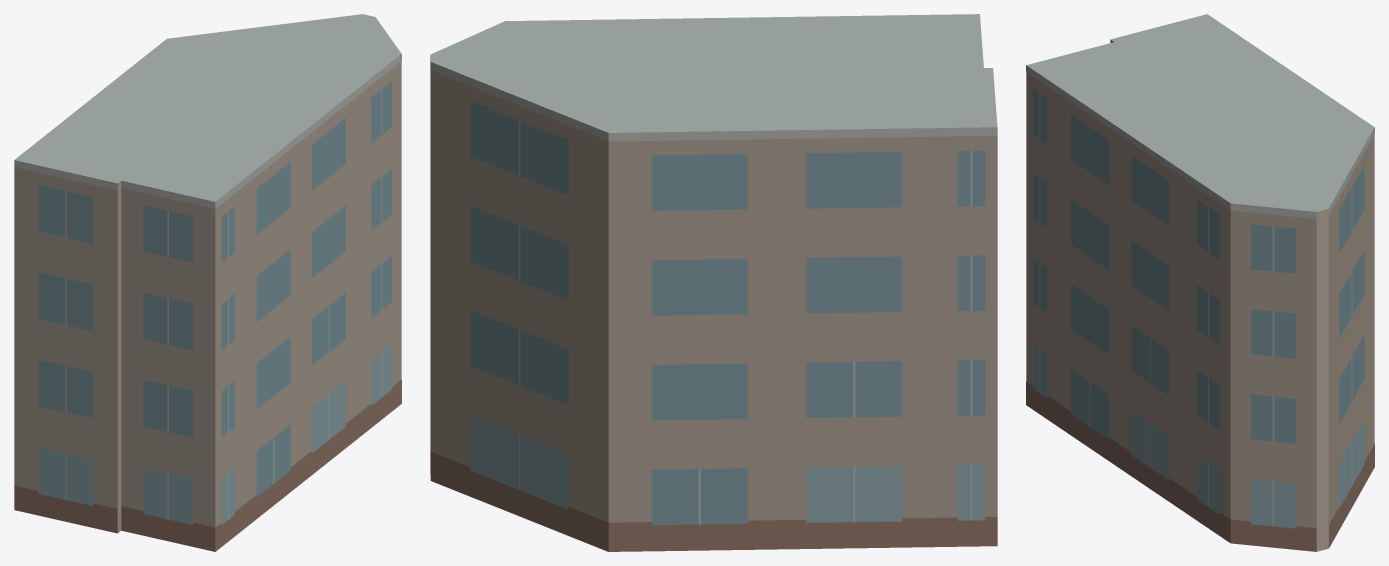
The model's file is survey-upis-32611073.glb.
3 renders of one model, left to right at view 1: azimuth 30°, elevation 25°; view 2: azimuth 150°, elevation 25°; view 3: azimuth 270°, elevation 25°, orthographic. The views are drawn at different scales.
Parts seen in each view (by area): view 1: survey-upis-32611073.tmp; view 2: survey-upis-32611073.tmp; view 3: survey-upis-32611073.tmp.
Part boxes in pixels (x1=…): survey-upis-32611073.tmp: x1=14, y1=14, x2=401, y2=551; survey-upis-32611073.tmp: x1=430, y1=14, x2=997, y2=551; survey-upis-32611073.tmp: x1=1026, y1=14, x2=1374, y2=551.
Bounding box in the file's own units: 14.81 × 11.85 × 11.02.
